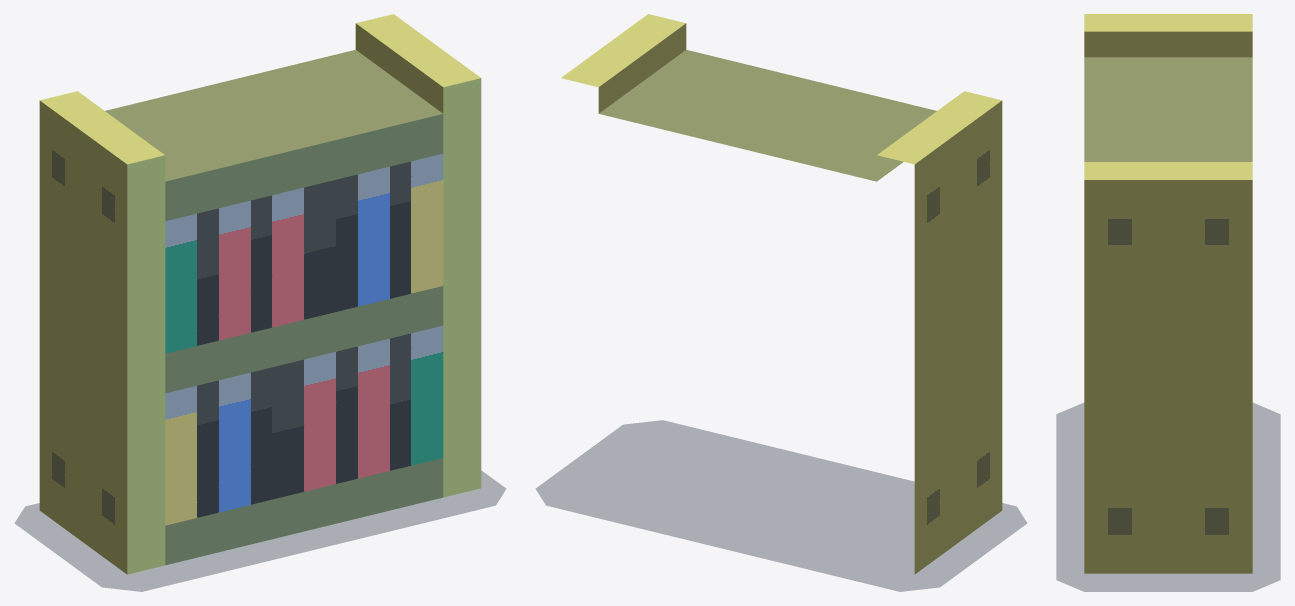
3 renders of one model, left to right at view 1: azimuth 30°, elevation 25°; view 2: azimuth 150°, elevation 25°; view 3: azimuth 270°, elevation 25°, orthographic. The views are drawn at different scales.
Bounding box in the file's own units: 2 × 1.97 × 1.
2 materials, 1 textured.
